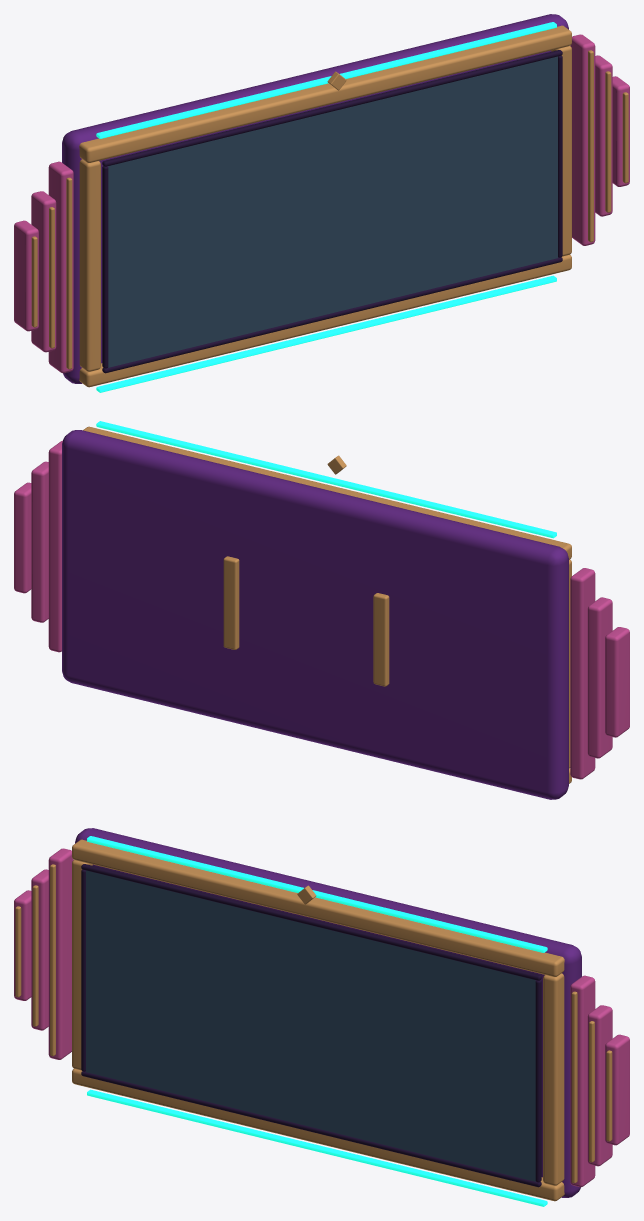
Rendered from deco-billboard.glb.
3 views of the same model, one above another, from view 1: azimuth 30°, elevation 25°; view 2: azimuth 150°, elevation 25°; view 3: azimuth 330°, elevation 25° (orthographic).
Parts seen in each view (by area): view 1: screen_surface, billboard_rim_top, billboard_back, billboard_rim_bottom, billboard_rim_side, deco_wing.003, deco_light, deco_light.001, billboard_black_top, deco_wing, billboard_black_bottom, deco_wing.001 (+12 smaller); view 2: billboard_back, deco_wing, deco_light.001, deco_wing.001, billboard_rim_top, deco_wing.003, deco_wing.004, deco_wing.002, deco_wing.005, wall_mount.001, wall_mount; view 3: screen_surface, billboard_rim_top, billboard_back, billboard_rim_bottom, billboard_rim_side.001, deco_wing, deco_light, deco_light.001, billboard_black_top, deco_wing.003, billboard_black_bottom, deco_wing.004 (+12 smaller).
Boxes of the visible parts, bbox=[...] form: screen_surface: bbox=[108, 56, 557, 367]; billboard_rim_top: bbox=[79, 25, 571, 162]; billboard_back: bbox=[62, 14, 568, 383]; billboard_rim_bottom: bbox=[79, 254, 571, 387]; billboard_rim_side: bbox=[79, 159, 100, 371]; deco_wing.003: bbox=[570, 34, 595, 245]; deco_light: bbox=[96, 275, 556, 392]; deco_light.001: bbox=[96, 22, 556, 138]; billboard_black_top: bbox=[102, 50, 562, 166]; deco_wing: bbox=[48, 161, 73, 373]; billboard_black_bottom: bbox=[102, 257, 562, 373]; deco_wing.001: bbox=[31, 191, 56, 352]; billboard_back: bbox=[62, 430, 568, 799]; deco_wing: bbox=[570, 568, 595, 779]; deco_light.001: bbox=[96, 421, 556, 538]; deco_wing.001: bbox=[587, 597, 612, 758]; billboard_rim_top: bbox=[83, 426, 571, 559]; deco_wing.003: bbox=[48, 440, 62, 652]; deco_wing.004: bbox=[31, 461, 48, 622]; deco_wing.002: bbox=[605, 627, 629, 737]; deco_wing.005: bbox=[14, 482, 31, 593]; wall_mount.001: bbox=[223, 556, 239, 649]; wall_mount: bbox=[373, 593, 389, 686]; screen_surface: bbox=[86, 870, 535, 1181]; billboard_rim_top: bbox=[72, 839, 564, 976]; billboard_back: bbox=[75, 828, 581, 1197]; billboard_rim_bottom: bbox=[72, 1068, 564, 1201]; billboard_rim_side.001: bbox=[543, 973, 564, 1185]; deco_wing: bbox=[48, 848, 73, 1059]; deco_light: bbox=[87, 1089, 547, 1206]; deco_light.001: bbox=[87, 836, 547, 952]; billboard_black_top: bbox=[81, 864, 541, 980]; deco_wing.003: bbox=[570, 975, 595, 1187]; billboard_black_bottom: bbox=[81, 1071, 541, 1187]; deco_wing.004: bbox=[587, 1005, 612, 1166].
Bounding box in the file's own units: 2.26 × 0.9678 × 0.2245.
